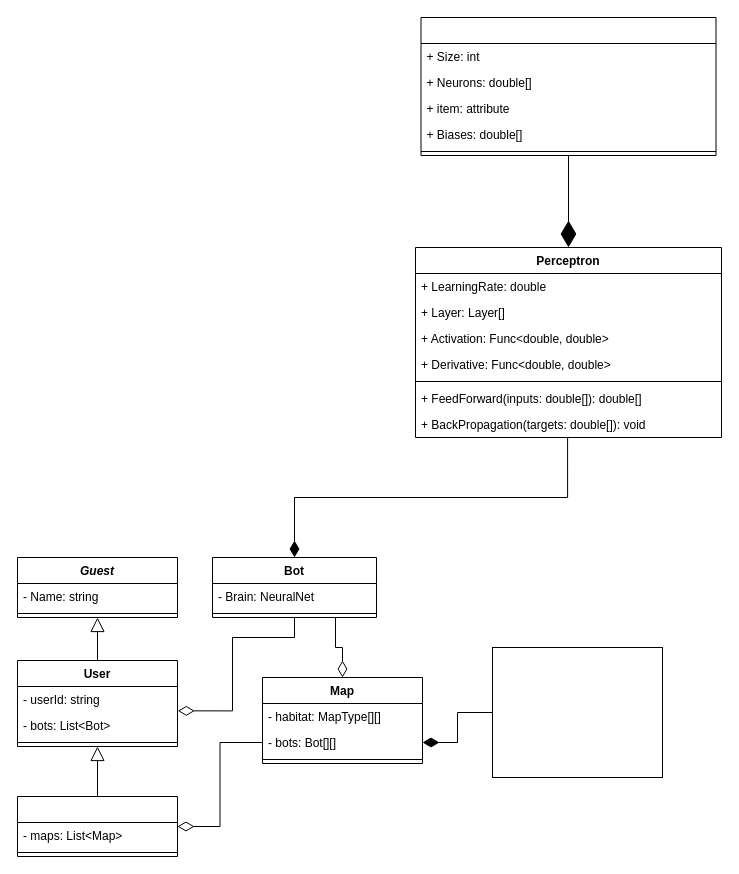
This 739x874 diagram has some shape labels left out. Here are the shapes that lost their labels. From the top down, the box of each, then its label:
(420, 16, 716, 156): Layer
(492, 646, 662, 778): <<Enumeration>> MapType Desert Water Tropic Temperate Taiga Tundra
(16, 796, 178, 856): Admin
